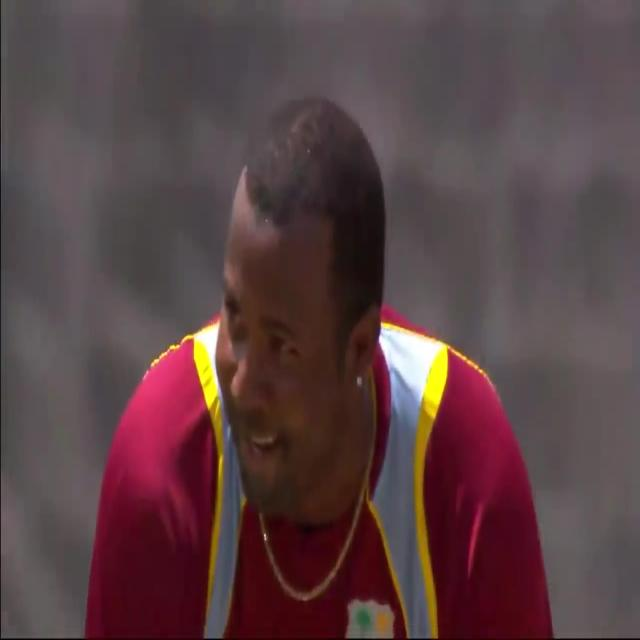Fielder: (58, 3, 584, 639)
